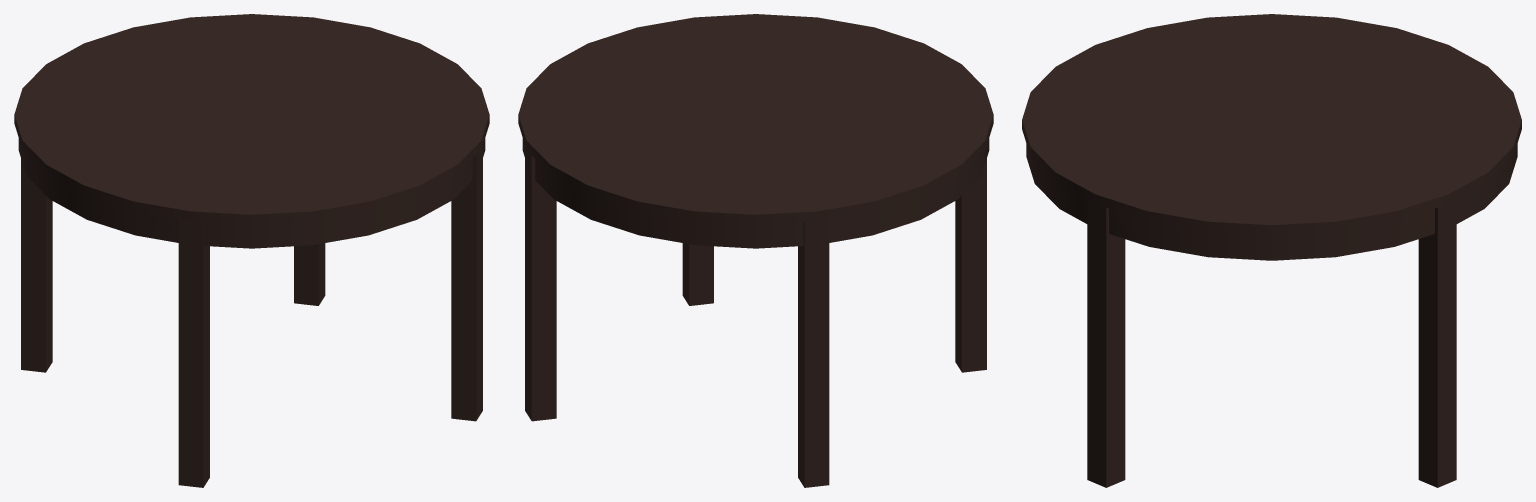
File: bjursta_table_4_obj0_object.obj
3 views of the same model, side by side, from view 1: azimuth 30°, elevation 25°; view 2: azimuth 150°, elevation 25°; view 3: azimuth 270°, elevation 25° (orthographic). The views are drawn at different scales.
Visible parts, largest first — view 1: Mesh1 Model; view 2: Mesh1 Model; view 3: Mesh1 Model.
Part boxes in pixels (x1,y1,x2,y2): Mesh1 Model: (14, 14, 489, 487); Mesh1 Model: (518, 14, 993, 487); Mesh1 Model: (1022, 14, 1521, 487).
Size of the model in its own units: 45.28 by 29.02 by 45.28.
